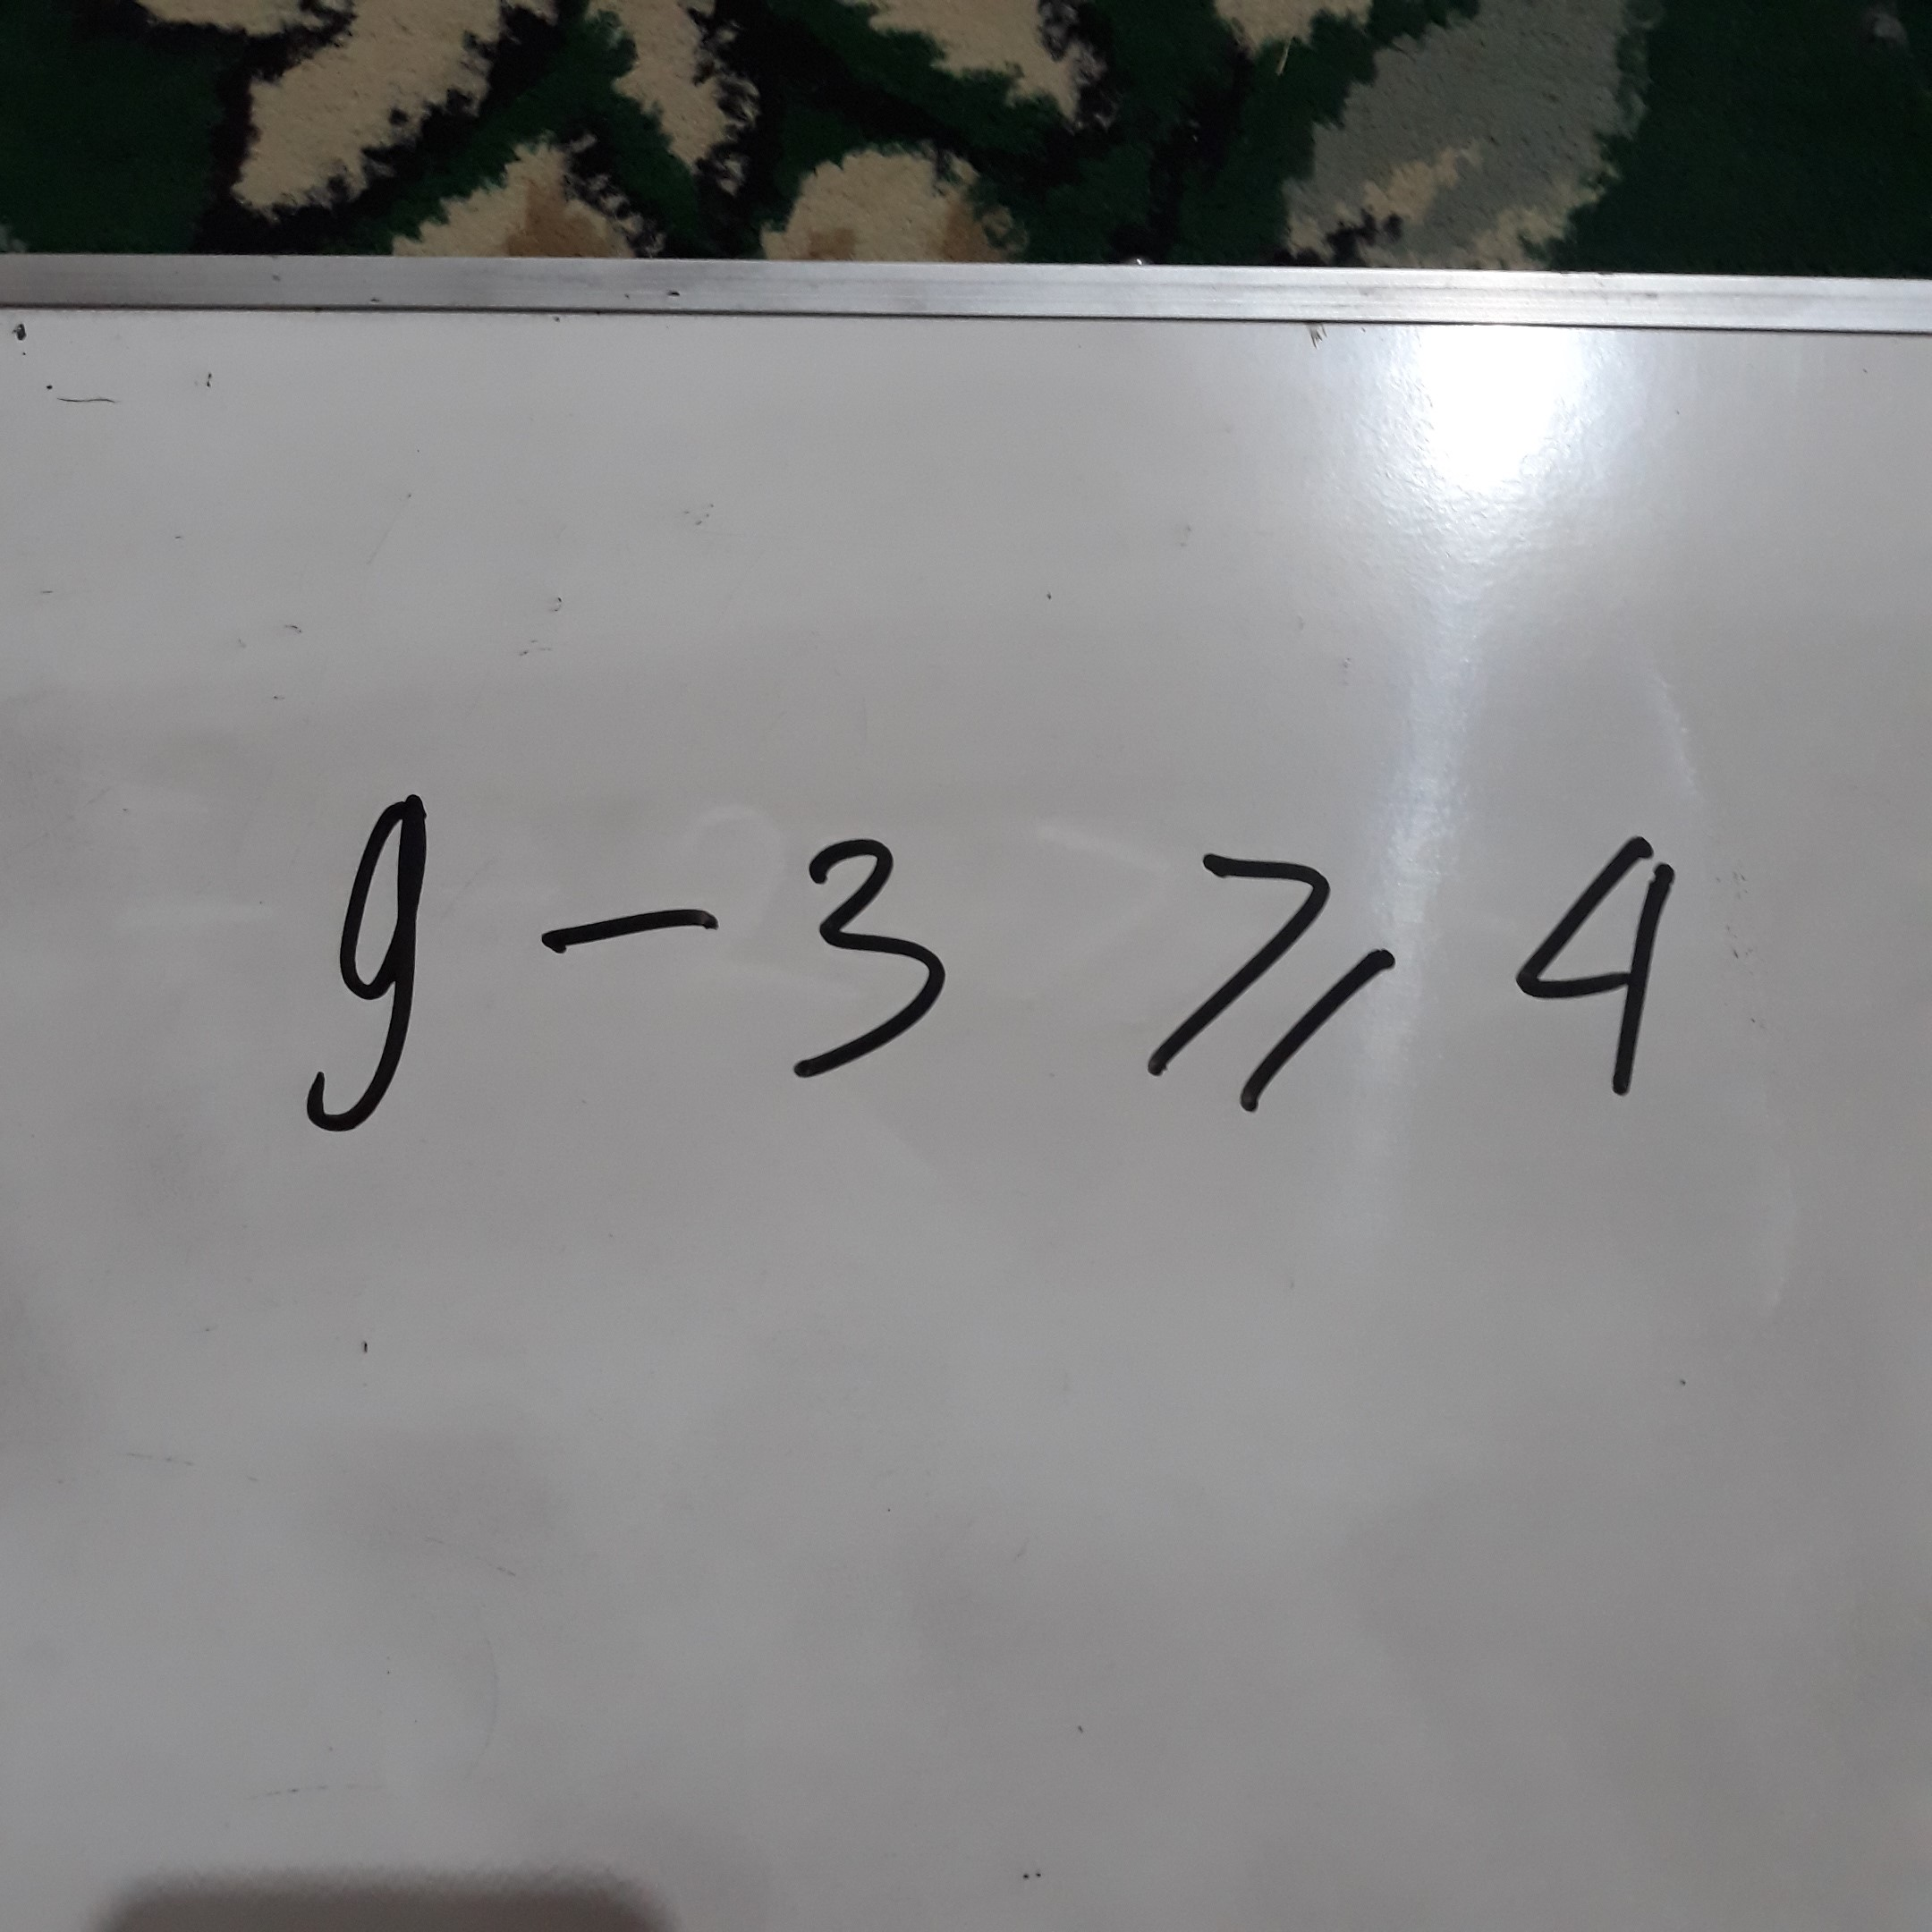min: (530, 866, 734, 1005)
morethan-equal: (1127, 818, 1415, 1121)
num3: (781, 811, 962, 1098)
num4: (1466, 821, 1754, 1124)
num9: (280, 756, 488, 1190)
